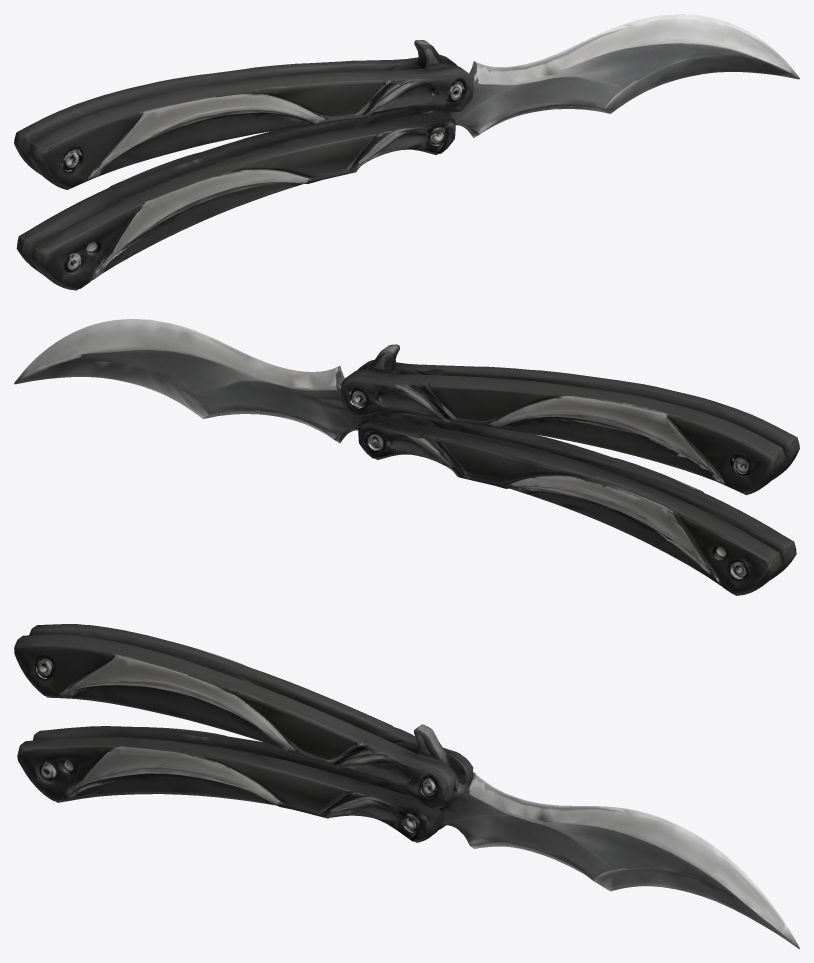
File: knife_balisong.glb
3 views of the same model, one above another, from view 1: azimuth 30°, elevation 25°; view 2: azimuth 150°, elevation 25°; view 3: azimuth 330°, elevation 25° (orthographic).
Parts seen in each view (by area): view 1: knife_mesh; view 2: knife_mesh; view 3: knife_mesh.
Boxes of the visible parts, bbox=[...] form: knife_mesh: bbox=[14, 14, 799, 290]; knife_mesh: bbox=[14, 319, 799, 595]; knife_mesh: bbox=[14, 624, 799, 948].
Size of the model in its own units: 1.18 by 0.2484 by 0.0858.
Materials: 1 (1 with a texture image).
